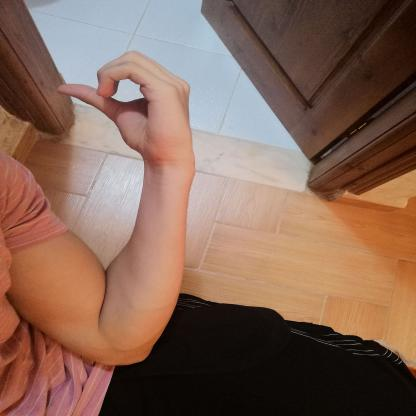WAW: (41, 42, 208, 174)
